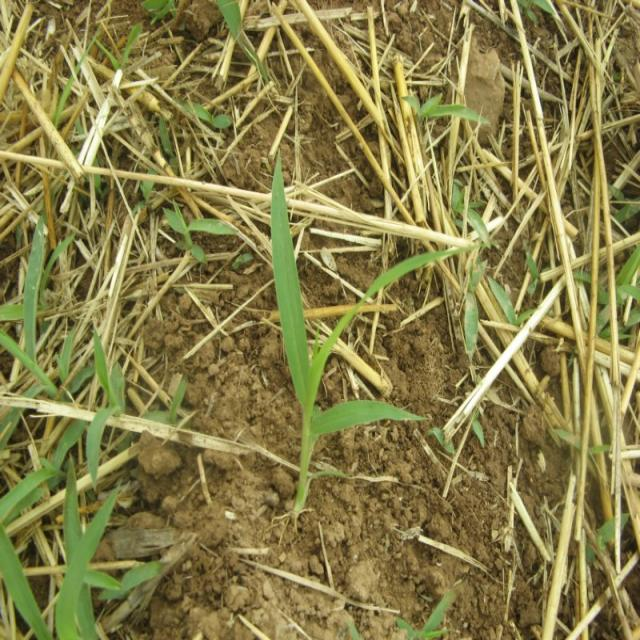bg: (267, 160, 453, 516)
